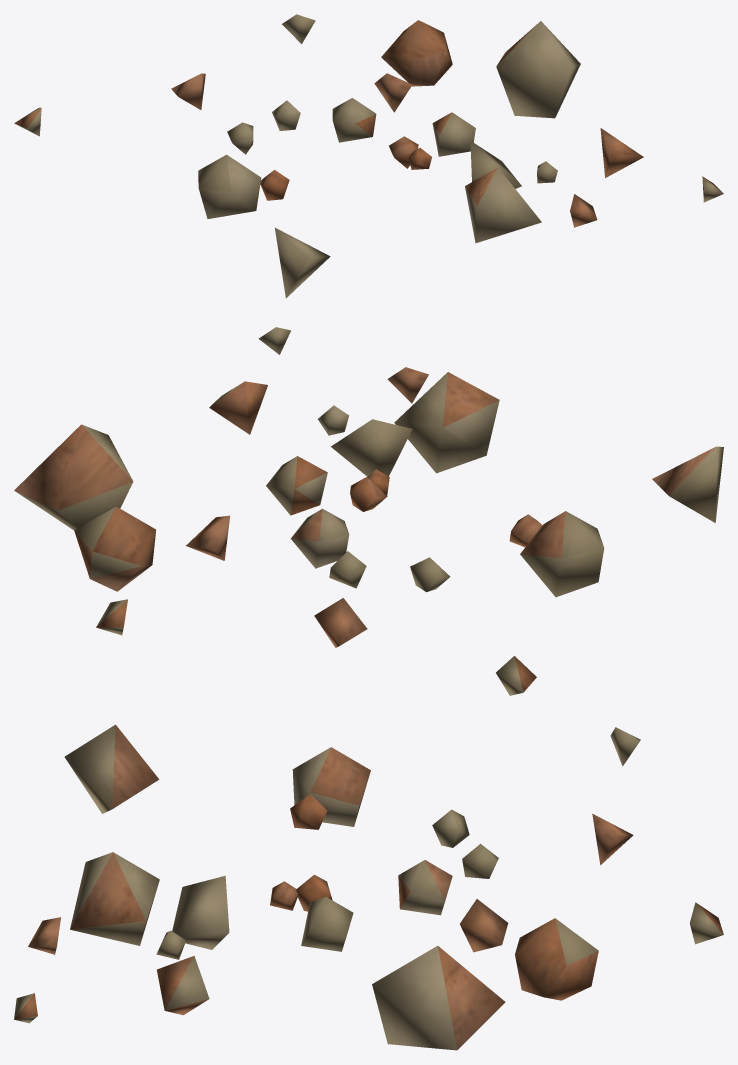
File: Trash_03.fbx
3 renders of one model, top to bottom at view 1: azimuth 30°, elevation 25°; view 2: azimuth 150°, elevation 25°; view 3: azimuth 270°, elevation 25°, orthographic. The views are drawn at different scales.
Parts seen in each view (by area): view 1: Trash_03; view 2: Trash_03; view 3: Trash_03.
Part boxes in pixels (x1,y1,x2,y2): Trash_03: (14,14,723,298); Trash_03: (14,327,723,695); Trash_03: (14,724,723,1050).
Bounding box in the file's own units: 81.15 × 14.7 × 80.76.
